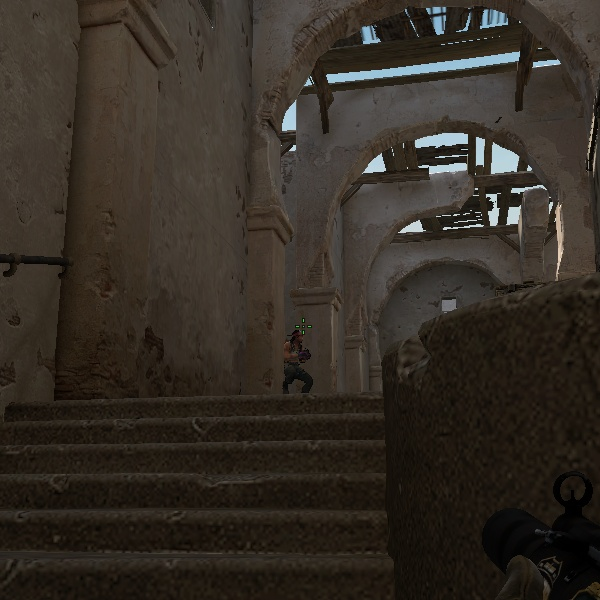t_body: (282, 328, 315, 396)
t_head: (291, 329, 305, 346)
